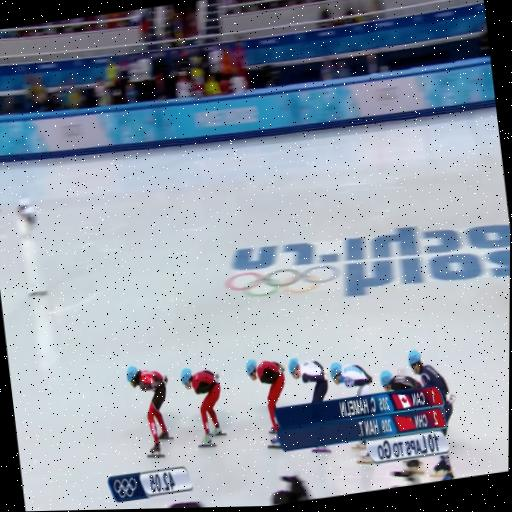Skater: (126, 367, 172, 457), (407, 350, 454, 435), (180, 369, 225, 447), (245, 360, 284, 448), (288, 358, 327, 403), (329, 363, 371, 396), (379, 370, 419, 391)
